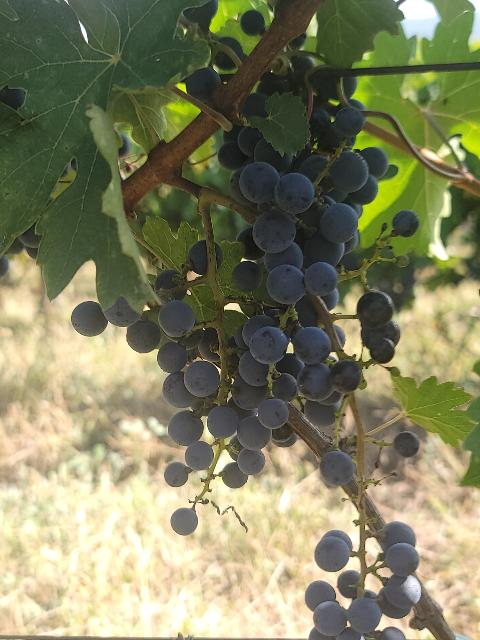grapes: (232, 106, 389, 311), (129, 299, 298, 488), (305, 448, 424, 640), (239, 145, 359, 304)
